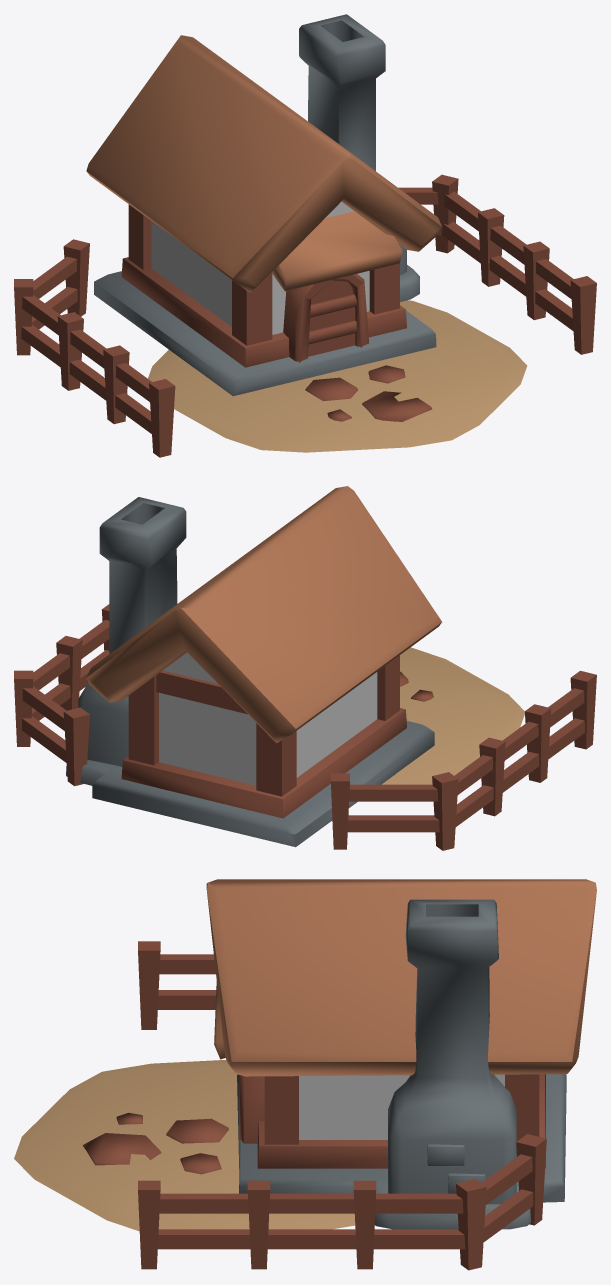
The model's file is home-gate.glb.
3 renders of one model, top to bottom at view 1: azimuth 30°, elevation 25°; view 2: azimuth 150°, elevation 25°; view 3: azimuth 270°, elevation 25°, orthographic. The views are drawn at different scales.
Parts seen in each view (by area): view 1: house; view 2: house; view 3: house.
Boxes of the visible parts, <box> form: house: <box>14,14,596,457</box>; house: <box>14,486,596,850</box>; house: <box>14,879,596,1270</box>.
Size of the model in its own units: 1.69 by 0.9138 by 1.65.
